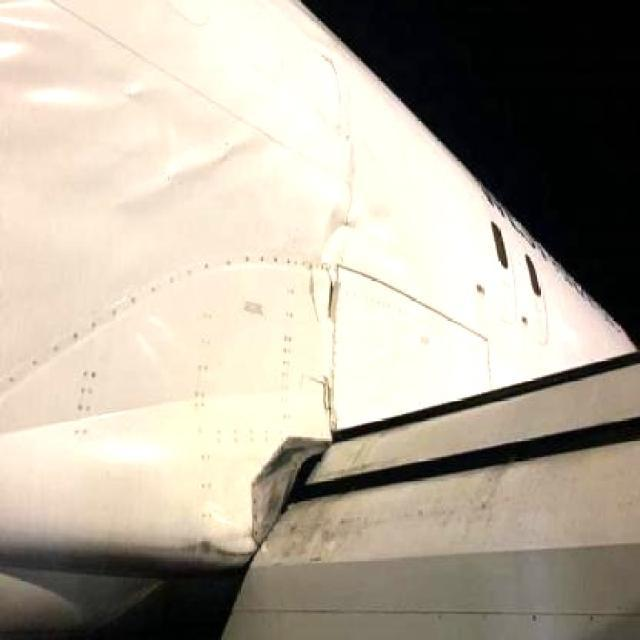dent: (143, 89, 259, 188), (2, 1, 72, 64), (322, 202, 378, 278), (23, 74, 119, 112), (142, 315, 184, 363)
